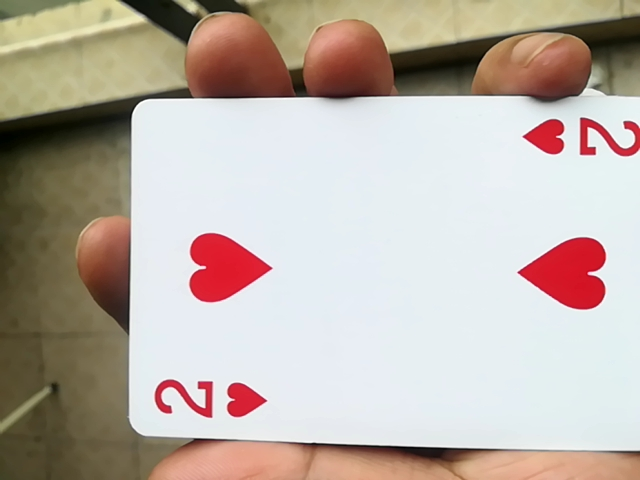hx 2: (115, 105, 636, 470)
